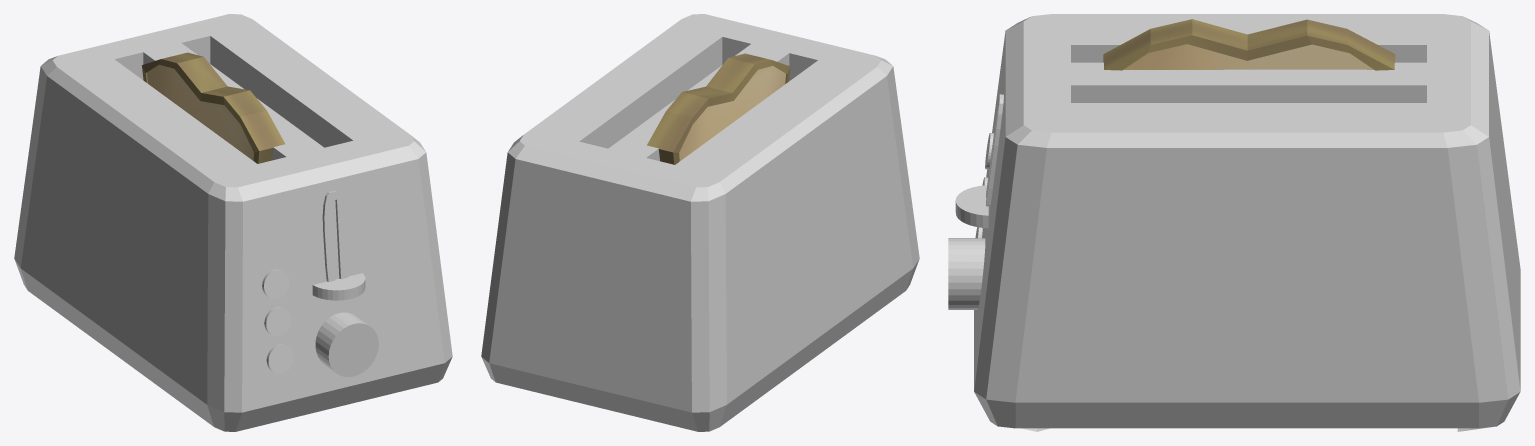
File: toast.fbx
The picture shows the model from 3 angles, left to right: view 1: azimuth 30°, elevation 25°; view 2: azimuth 150°, elevation 25°; view 3: azimuth 270°, elevation 25°; orthographic projection. The views are drawn at different scales.
Parts seen in each view (by area): view 1: toaster, toast; view 2: toaster, toast; view 3: toaster, toast.
Boxes of the visible parts, x1,y1,x2,y2 form: toaster: [14, 14, 452, 431]; toast: [142, 52, 285, 163]; toaster: [481, 14, 919, 431]; toast: [647, 53, 790, 164]; toaster: [948, 14, 1520, 431]; toast: [1103, 19, 1395, 70].
Bounding box in the file's own units: 17.97 × 19.31 × 29.97.
